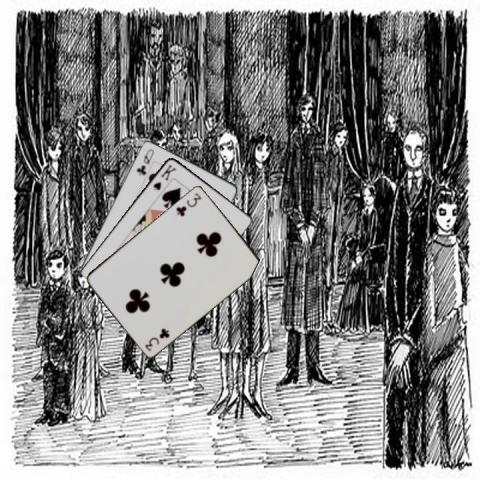3c: (172, 190, 202, 217), (142, 325, 171, 352)
Ks: (150, 161, 177, 192)
Qc: (134, 145, 155, 177)
